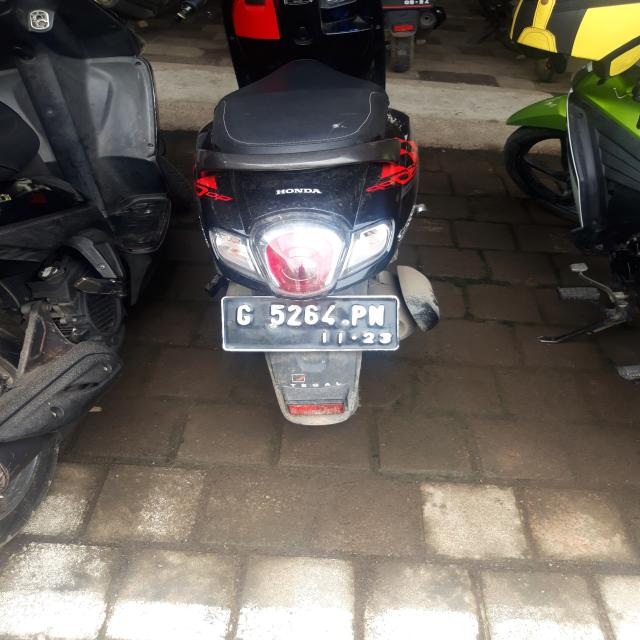plate: (224, 295, 401, 352)
